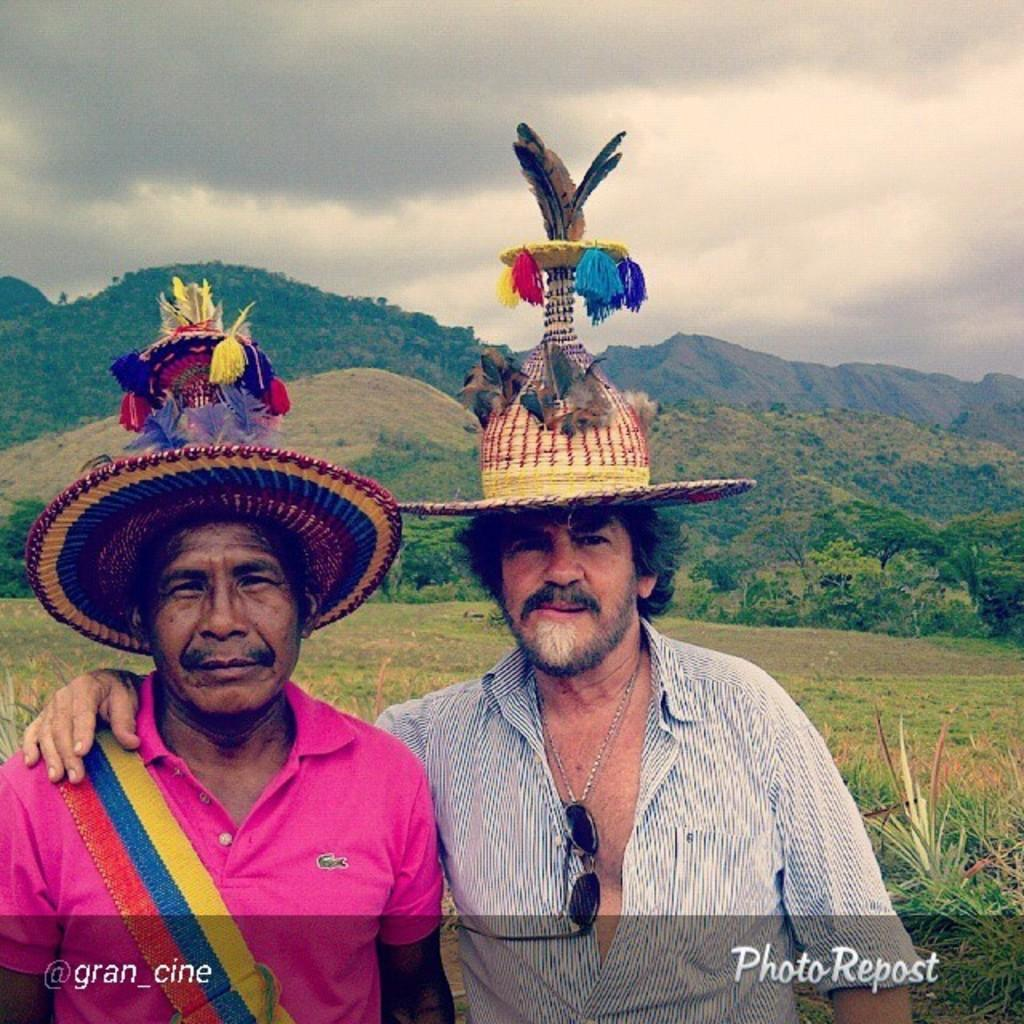Hat: (28, 272, 406, 664), (390, 118, 753, 512)
